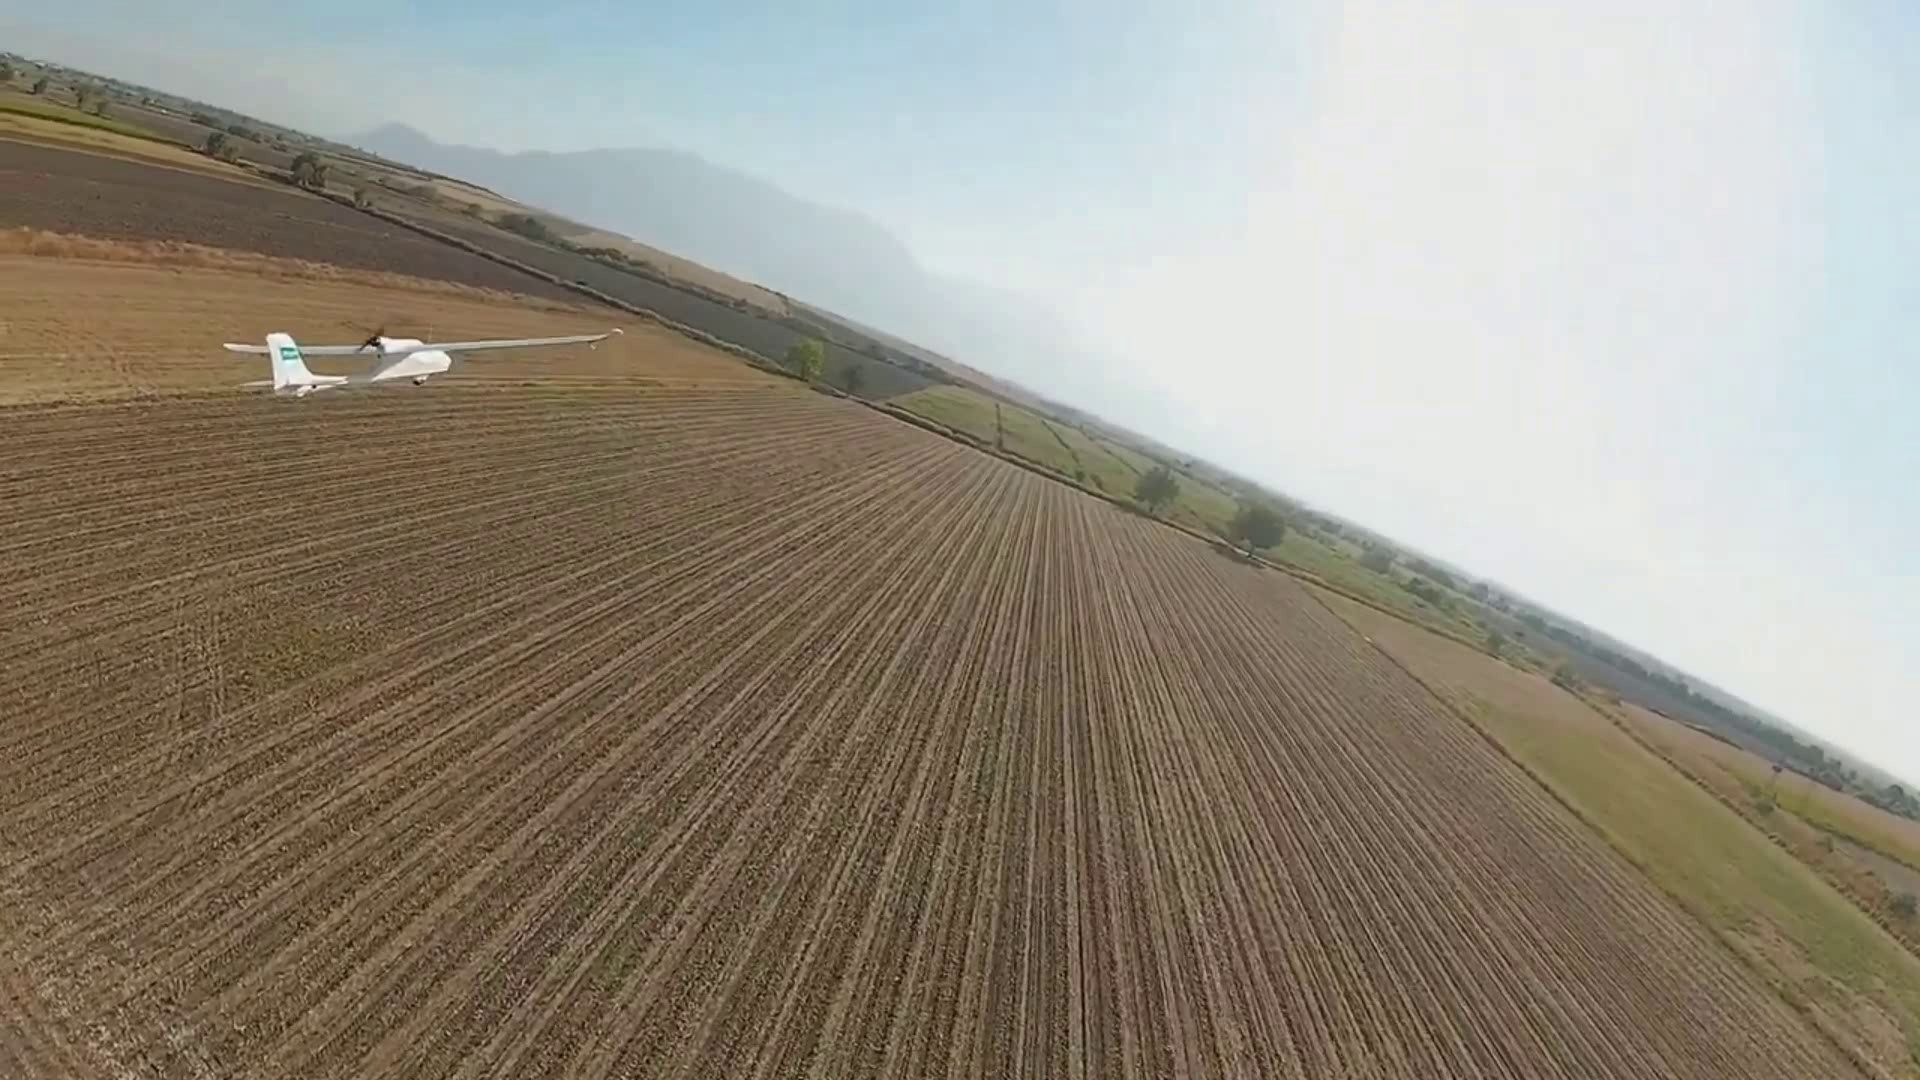airplane: (219, 325, 618, 391), (224, 326, 451, 394)
